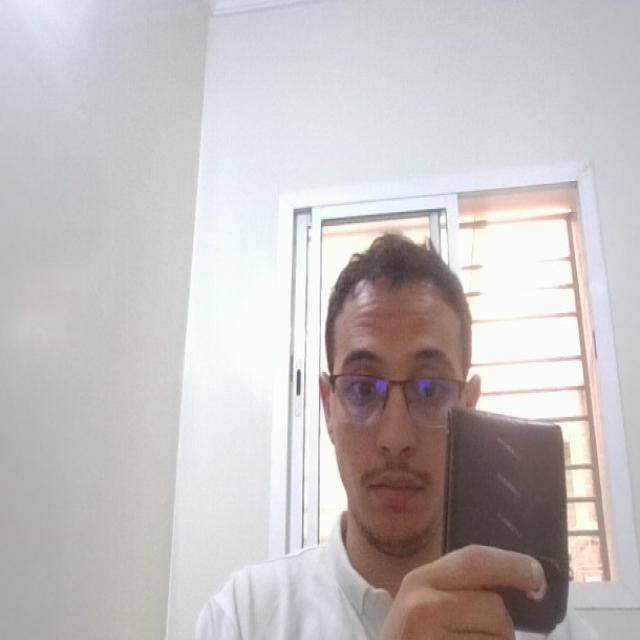wallet: (441, 398, 582, 638)
